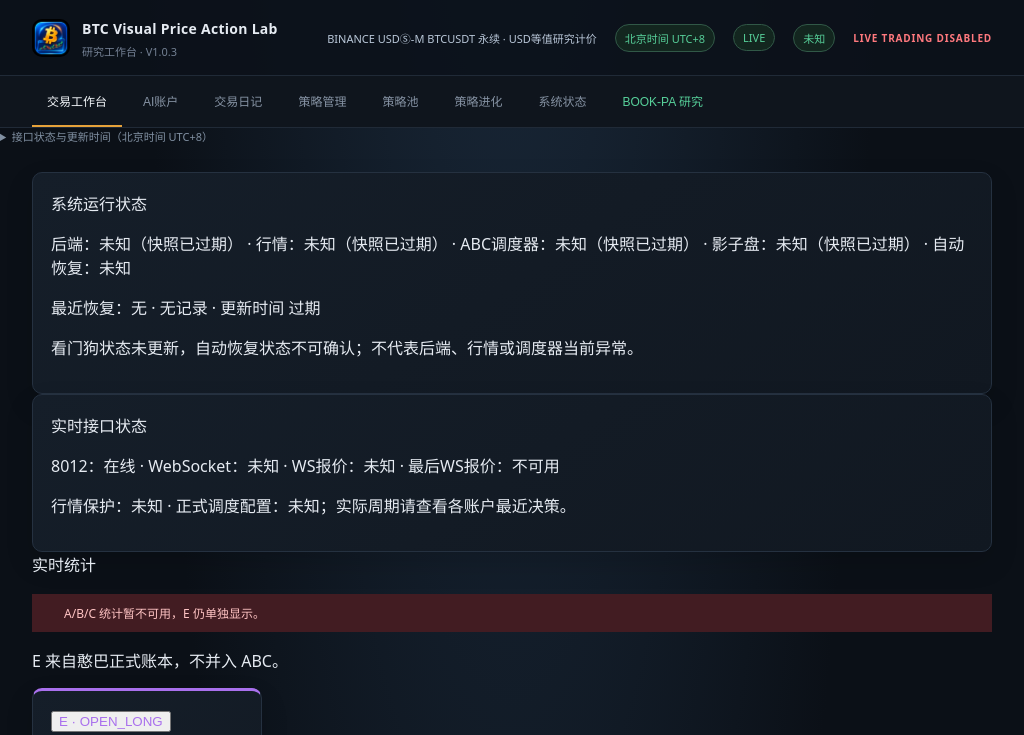
Scenario: workbench safeguards › shows Hanba E as a fourth account, legend entry and formal fill
Step 1. Click the button "交易日记" → (238, 102), box [199,76,277,127]
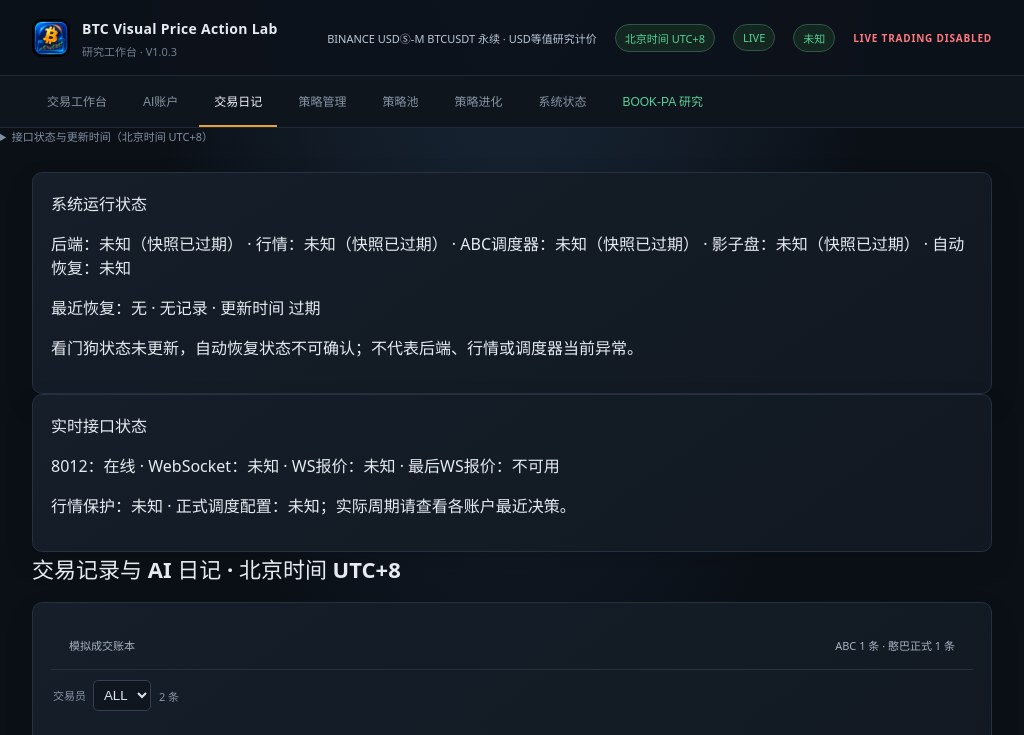
Step 2. Select "E" in the dropdown labelled "交易员" → (122, 696), box [93,680,151,711]
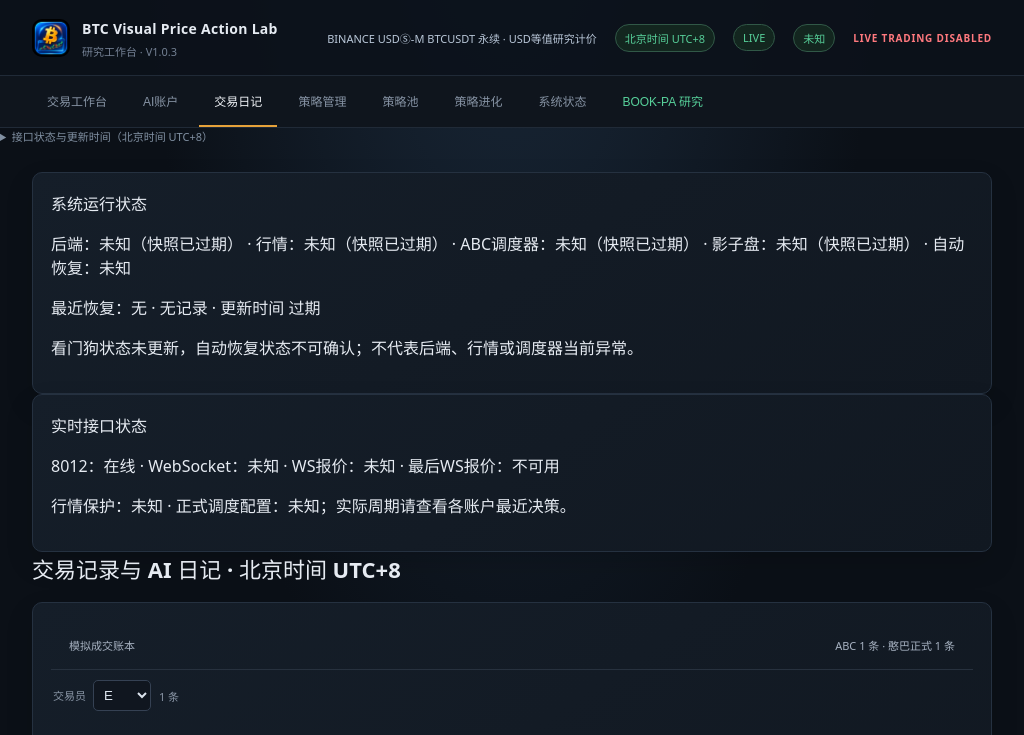
Step 3. Click the button "策略管理" → (322, 102), box [283,76,361,127]
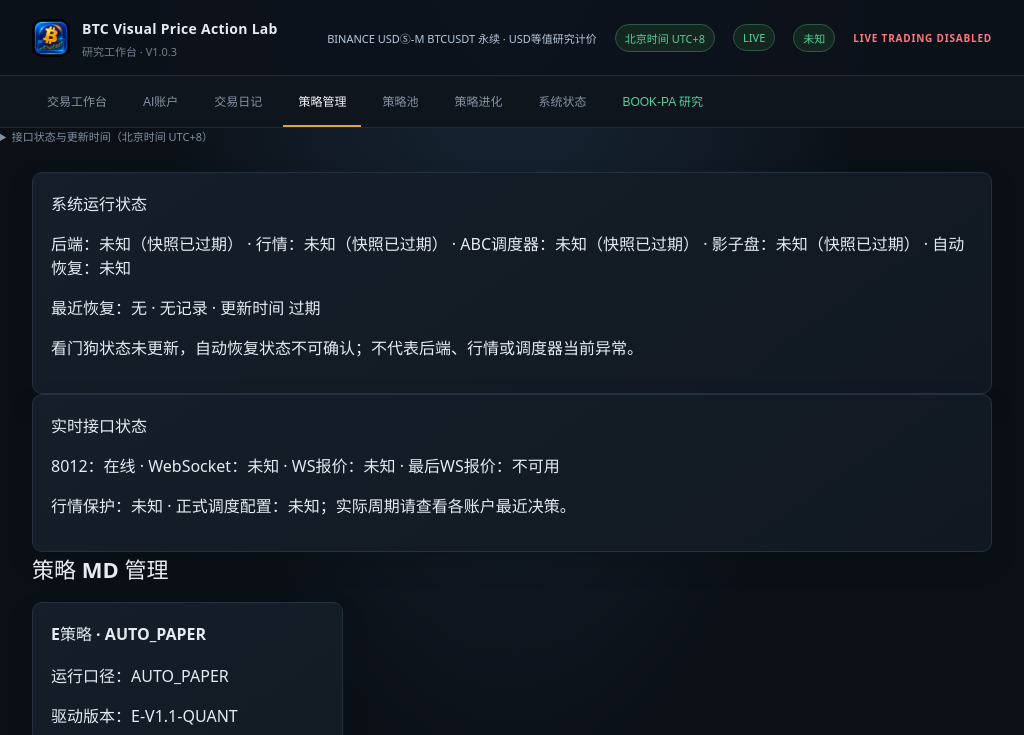
Check: the heading "E策略 · AUTO_PAPER" is shown, box [51,623,206,645]
Check: the text "驱动版本：E-V1.1-QUANT" is shown, box [51,705,238,727]
Step 4. Click the button "AI账户" → (161, 102), box [128,76,193,127]
(page scrolled)
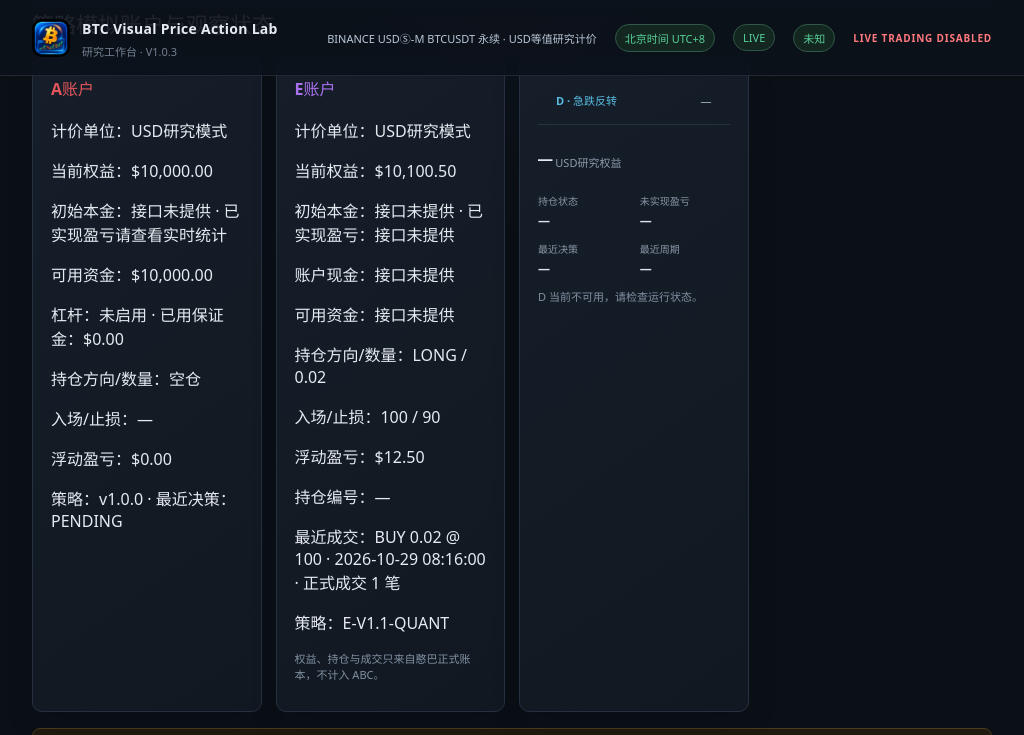
Check: the heading "E账户" is shown, box [294,78,336,100]
Check: the element named "憨巴E账户" shows "持仓方向/数量：LONG / 0.02", box [294,344,467,388]
Check: the element named "憨巴E账户" shows "入场/止损：100 / 90", box [294,406,440,428]
